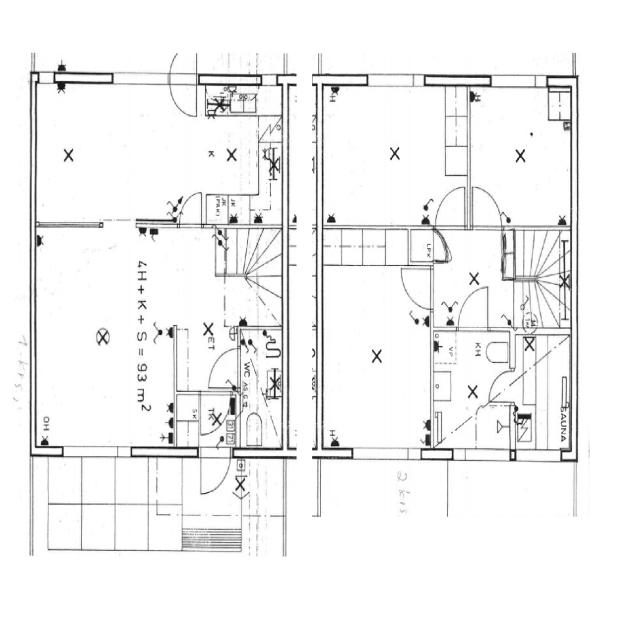door: (166, 49, 198, 119), (196, 444, 233, 498), (455, 282, 492, 334), (468, 180, 504, 233), (399, 263, 436, 312), (432, 182, 469, 231), (206, 344, 241, 392), (197, 392, 235, 436), (485, 364, 517, 406), (174, 190, 206, 230)
window: (348, 441, 426, 464), (57, 440, 129, 460), (448, 444, 513, 464), (109, 67, 169, 88), (366, 71, 426, 92), (38, 216, 103, 234), (489, 70, 542, 91), (514, 447, 564, 465), (136, 212, 178, 232)
zone: (36, 80, 283, 222), (33, 230, 178, 451), (319, 227, 431, 456), (322, 84, 468, 227), (176, 225, 285, 393), (469, 85, 572, 226), (433, 329, 518, 449), (435, 229, 509, 325), (517, 331, 573, 456), (237, 326, 283, 448), (244, 239, 284, 321)
